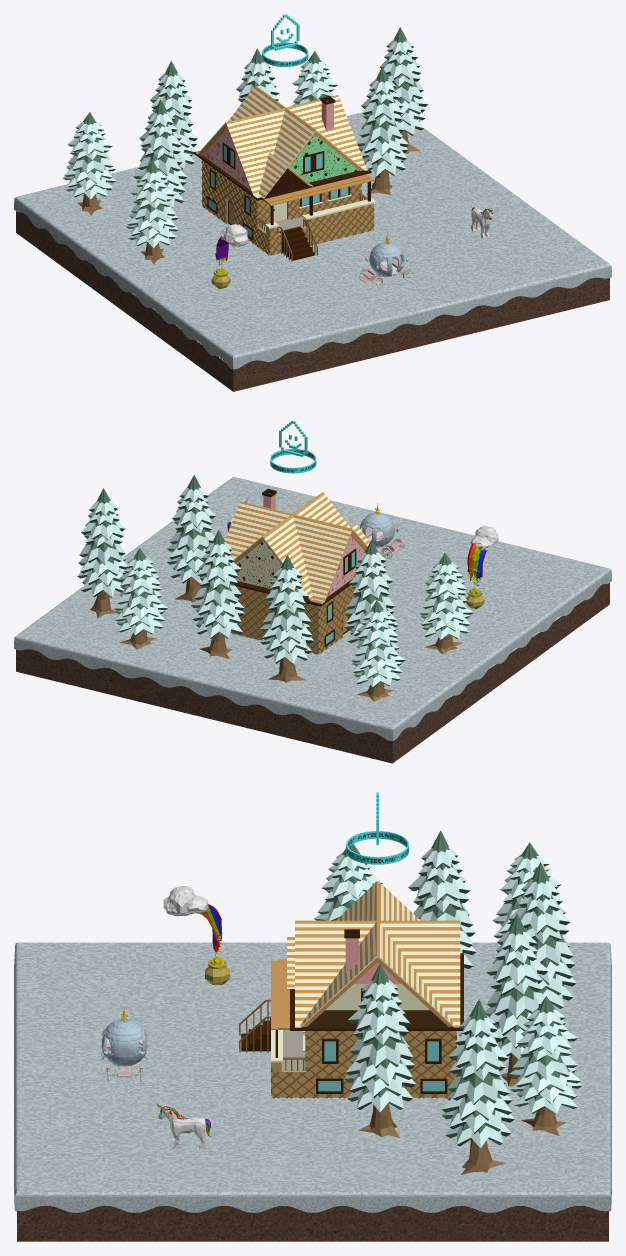
The picture shows the model from 3 angles, top to bottom: view 1: azimuth 30°, elevation 25°; view 2: azimuth 150°, elevation 25°; view 3: azimuth 270°, elevation 25°; orthographic projection. The views are drawn at different scales.
Parts seen in each view (by area): view 1: Cube.003, Cube.1102, VEHICLES_FANTASY_CARRIAGE, OBJRANDOM_RAINBOW, TYPE_PREMIUM; view 2: Cube.003, Cube.1102, OBJRANDOM_RAINBOW, VEHICLES_FANTASY_CARRIAGE, TYPE_PREMIUM; view 3: Cube.003, Cube.1102, VEHICLES_FANTASY_CARRIAGE, OBJRANDOM_RAINBOW, TYPE_PREMIUM, ANIMAL_UNICORNIO.
Boxes of the visible parts, x1=… form: Cube.003: x1=14, y1=27, x2=611, y2=391; Cube.1102: x1=194, y1=85, x2=376, y2=261; VEHICLES_FANTASY_CARRIAGE: x1=359, y1=233, x2=413, y2=288; OBJRANDOM_RAINBOW: x1=211, y1=224, x2=248, y2=288; TYPE_PREMIUM: x1=262, y1=14, x2=308, y2=66; Cube.003: x1=14, y1=475, x2=611, y2=763; Cube.1102: x1=225, y1=489, x2=388, y2=654; OBJRANDOM_RAINBOW: x1=466, y1=525, x2=498, y2=609; VEHICLES_FANTASY_CARRIAGE: x1=360, y1=503, x2=405, y2=558; TYPE_PREMIUM: x1=270, y1=420, x2=316, y2=473; Cube.003: x1=14, y1=830, x2=611, y2=1241; Cube.1102: x1=239, y1=881, x2=463, y2=1098; VEHICLES_FANTASY_CARRIAGE: x1=99, y1=1007, x2=149, y2=1082; OBJRANDOM_RAINBOW: x1=163, y1=886, x2=229, y2=984; TYPE_PREMIUM: x1=346, y1=792, x2=408, y2=864; ANIMAL_UNICORNIO: x1=156, y1=1103, x2=211, y2=1150.
Size of the model in its own units: 4040 by 2471 by 4040.
Materials: 39 (5 with a texture image).
